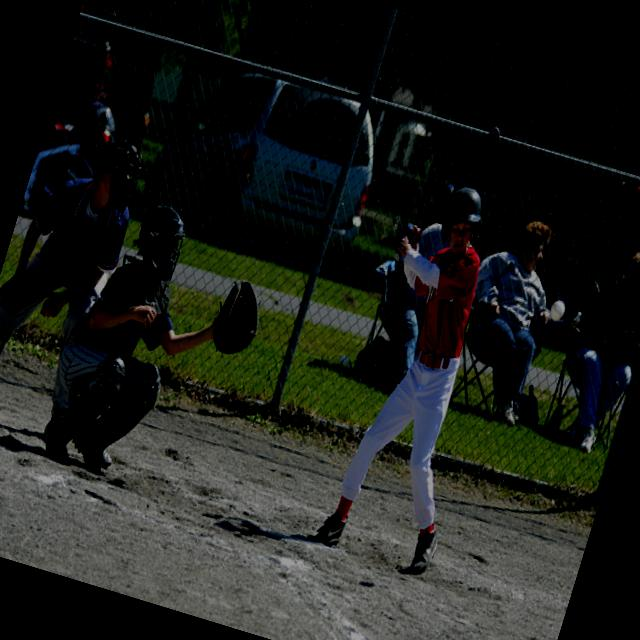Vehicle: (134, 48, 395, 282), (464, 144, 640, 339), (31, 0, 145, 188), (18, 84, 122, 234)
